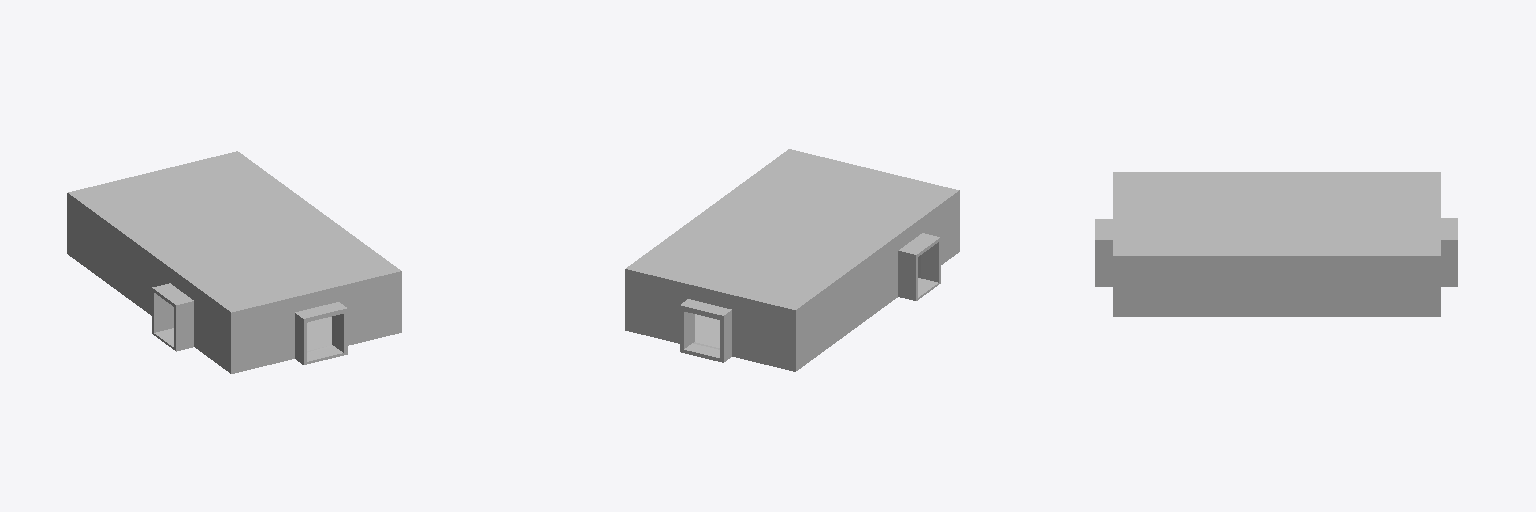
The model's file is RoomThree.obj.
3 views of the same model, side by side, from view 1: azimuth 30°, elevation 25°; view 2: azimuth 150°, elevation 25°; view 3: azimuth 270°, elevation 25° (orthographic).
Visible parts, largest first — view 1: Cube; view 2: Cube; view 3: Cube.
Boxes of the visible parts, box(x1,y1,x2,y2) form: Cube: box(67, 151, 401, 373); Cube: box(625, 149, 959, 371); Cube: box(1095, 172, 1457, 316).
Bounding box in the file's own units: 8.89 × 2.08 × 11.27.